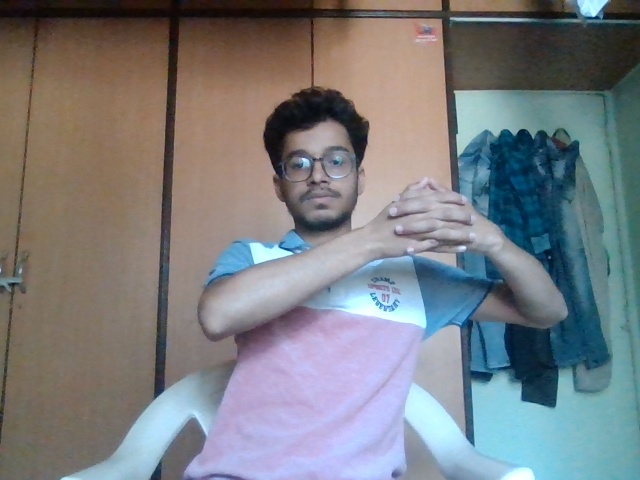good: (378, 172, 486, 282)
